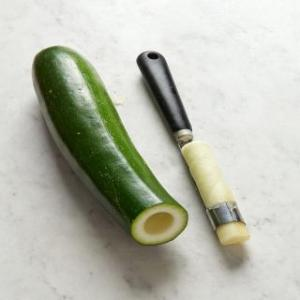zucchini: (11, 27, 181, 257)
